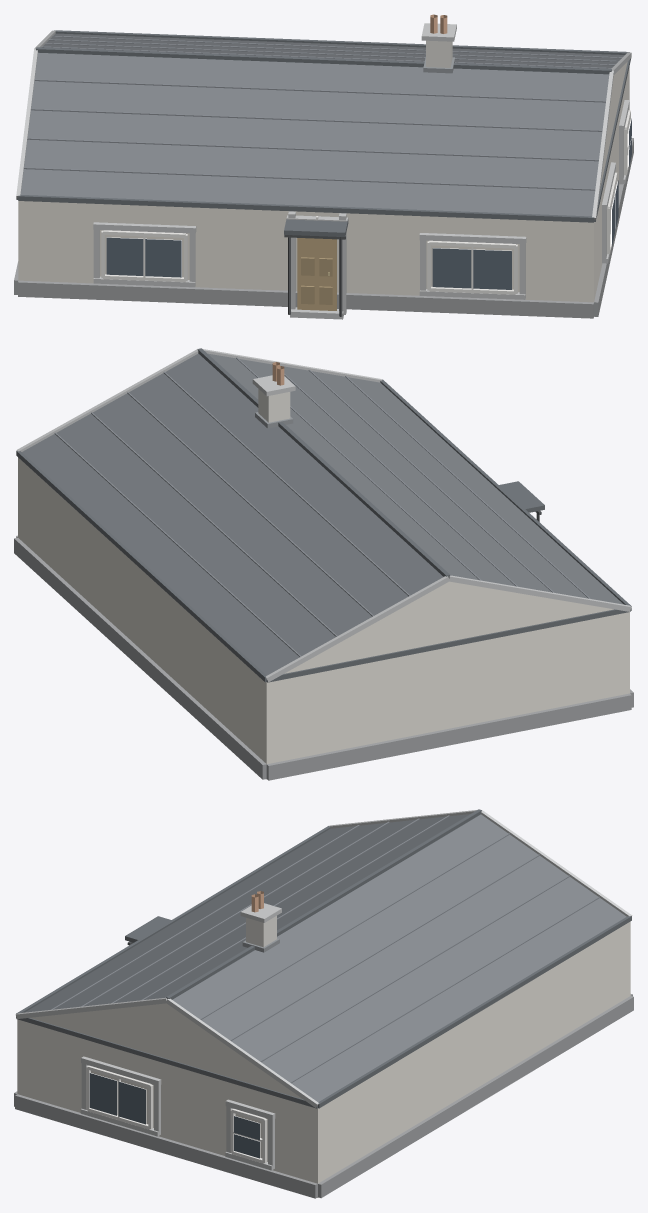
3 views of the same model, one above another, from view 1: azimuth 30°, elevation 25°; view 2: azimuth 150°, elevation 25°; view 3: azimuth 270°, elevation 25° (orthographic). The views are drawn at different scales.
Visible parts, largest first — view 1: slate, harl_cream, slate_dk, plinth, stone_band, slate_lt, frame, door_wood, window_glass_004, window_glass_005, window_glass_001, window_glass_002 (+3 smaller); view 2: slate, harl_cream, plinth, slate_dk, slate_lt, stone_band, chim_render; view 3: slate, harl_cream, plinth, slate_dk, stone_band, slate_lt, frame, window_glass_006, window_glass_007, chim_render.
Part boxes in pixels (bbox=[...]): slate: bbox=[20, 33, 624, 216]; harl_cream: bbox=[18, 62, 629, 302]; slate_dk: bbox=[16, 30, 631, 236]; plinth: bbox=[14, 138, 633, 318]; stone_band: bbox=[16, 23, 631, 319]; slate_lt: bbox=[23, 35, 622, 190]; frame: bbox=[101, 110, 630, 294]; door_wood: bbox=[297, 238, 336, 310]; window_glass_004: bbox=[432, 248, 471, 288]; window_glass_005: bbox=[473, 249, 511, 289]; window_glass_001: bbox=[106, 237, 143, 275]; window_glass_002: bbox=[145, 238, 181, 277]; slate: bbox=[22, 353, 623, 675]; harl_cream: bbox=[18, 457, 629, 779]; plinth: bbox=[14, 535, 633, 780]; slate_dk: bbox=[16, 348, 631, 682]; slate_lt: bbox=[54, 357, 590, 656]; stone_band: bbox=[16, 349, 631, 682]; chim_render: bbox=[258, 389, 290, 422]; slate: bbox=[25, 814, 626, 1101]; harl_cream: bbox=[17, 921, 630, 1197]; plinth: bbox=[14, 994, 633, 1198]; slate_dk: bbox=[16, 809, 631, 1108]; stone_band: bbox=[15, 810, 632, 1170]; slate_lt: bbox=[51, 815, 599, 1083]; frame: bbox=[86, 1065, 267, 1163]; window_glass_006: bbox=[89, 1072, 117, 1115]; window_glass_007: bbox=[118, 1081, 146, 1124]; chim_render: bbox=[246, 916, 276, 947].
Size of the model in its own units: 17.76 by 6.12 by 16.6.
